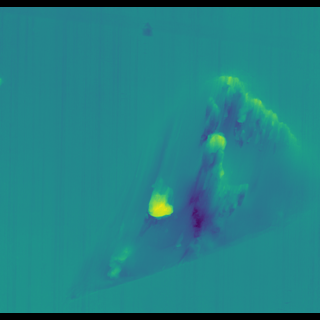Loch: (95, 68, 300, 279)
